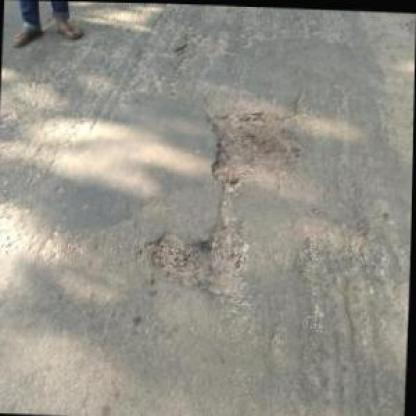pothole: (206, 104, 306, 189), (151, 221, 250, 305)
